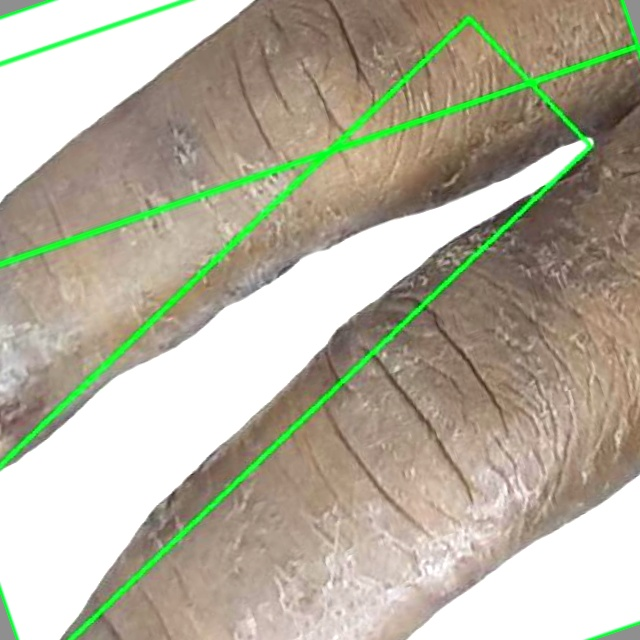Eczema: (0, 0, 639, 639), (0, 17, 596, 639)
